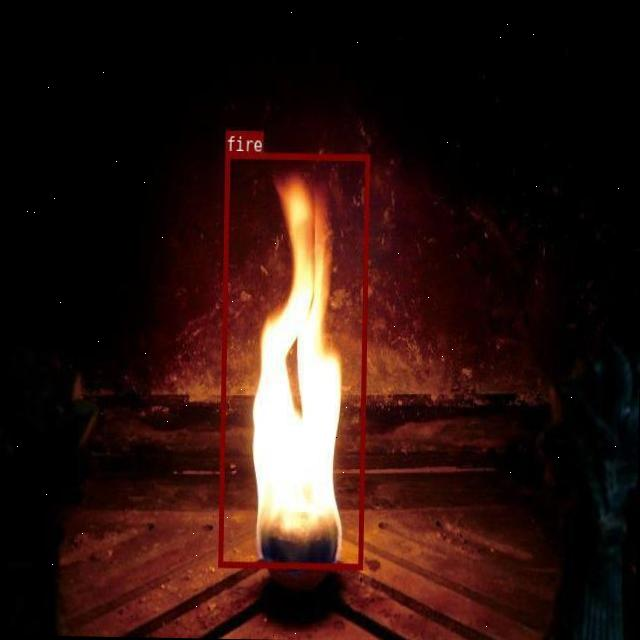fire: (218, 151, 369, 568)
